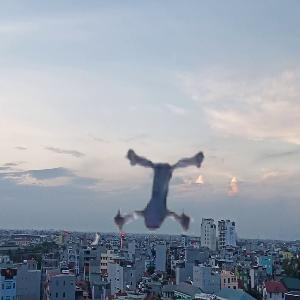drone: (93, 130, 228, 265)
